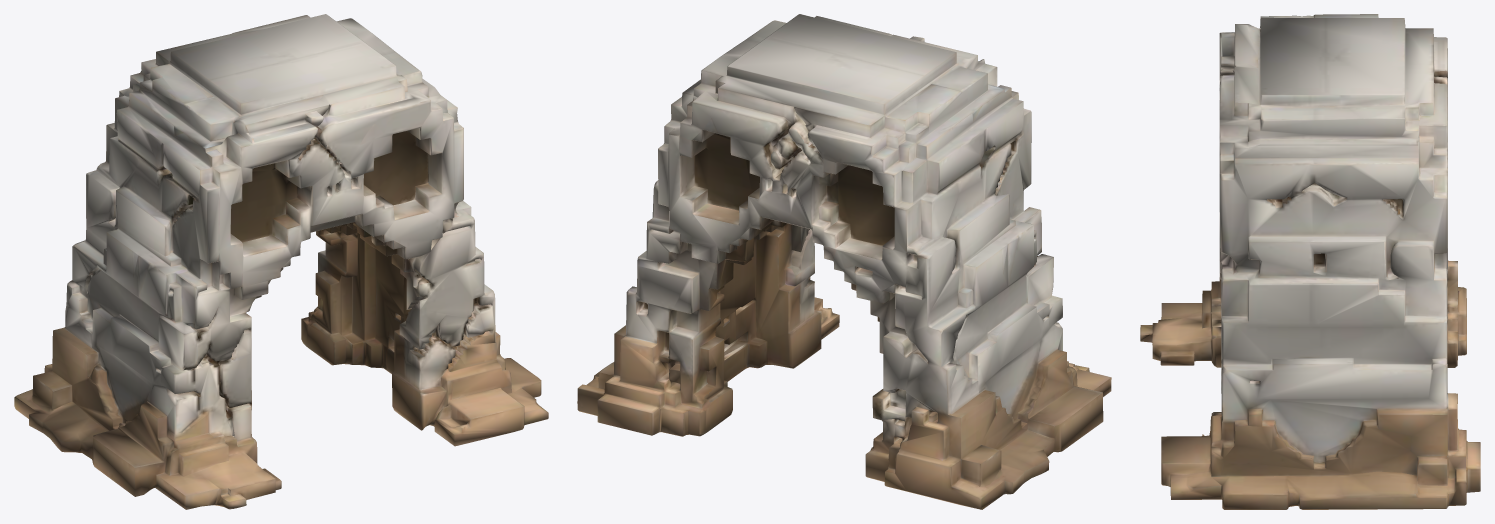
The model's file is skull_gate.glb.
3 renders of one model, left to right at view 1: azimuth 30°, elevation 25°; view 2: azimuth 150°, elevation 25°; view 3: azimuth 270°, elevation 25°, orthographic.
Parts seen in each view (by area): view 1: node_0; view 2: node_0; view 3: node_0.
Boxes of the visible parts, left/top/right/bottom form: node_0: left=14, top=14, right=548, bottom=509; node_0: left=577, top=14, right=1111, bottom=509; node_0: left=1140, top=14, right=1480, bottom=509.
Bounding box in the file's own units: 0.8637 × 0.6886 × 0.6006.
Materials: 1 (1 with a texture image).
